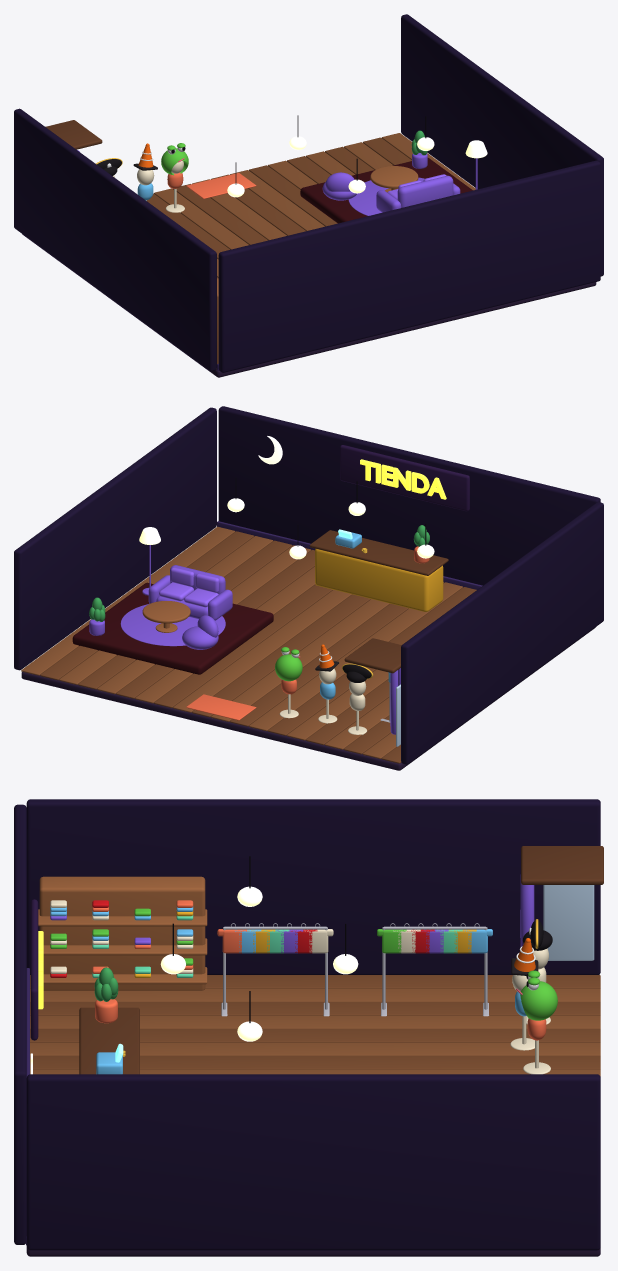
File: room_shop.glb
3 views of the same model, one above another, from view 1: azimuth 30°, elevation 25°; view 2: azimuth 150°, elevation 25°; view 3: azimuth 270°, elevation 25° (orthographic). The views are drawn at different scales.
Visible parts, largest first — view 1: Room, FloorPlanks, Showcase, Loveseat, FittingFrame, DoorMat, CoffeeTable, Pendants, Rug, Beanbag, Costume_Frog, MannequinFrog; view 2: Room, FloorPlanks, Showcase, Counter, SignBoard, Loveseat, CounterTop, Rug, SignText, FittingFrame, CoffeeTable, DoorMat (+6 smaller); view 3: Room, FloorPlanks, ClothesShelf, ShelfBoards, Mirror, FittingFrame, FoldedClothes, CounterTop, RackB_Shirts, RackA_Shirts, Pendants, Costume_Frog (+9 smaller).
Part boxes in pixels (<box>): Room: <box>14,14,603,377</box>; FloorPlanks: <box>147,133,475,369</box>; Showcase: <box>300,158,472,223</box>; Loveseat: <box>376,174,460,212</box>; FittingFrame: <box>45,120,102,149</box>; DoorMat: <box>186,173,256,198</box>; CoffeeTable: <box>370,166,418,192</box>; Pendants: <box>227,136,434,197</box>; Rug: <box>348,177,424,215</box>; Beanbag: <box>322,172,356,200</box>; Costume_Frog: <box>161,143,188,175</box>; MannequinFrog: <box>165,161,184,212</box>; Room: <box>14,406,603,770</box>; FloorPlanks: <box>21,526,476,763</box>; Showcase: <box>72,582,273,674</box>; Counter: <box>315,548,443,611</box>; SignBoard: <box>340,445,469,511</box>; Loveseat: <box>148,565,232,620</box>; CounterTop: <box>309,530,448,575</box>; Rug: <box>120,604,225,646</box>; SignText: <box>360,459,446,499</box>; FittingFrame: <box>344,638,401,673</box>; CoffeeTable: <box>142,601,190,632</box>; DoorMat: <box>186,694,256,720</box>; Room: <box>14,799,600,1256</box>; FloorPlanks: <box>30,975,600,1076</box>; ClothesShelf: <box>39,876,205,990</box>; ShelfBoards: <box>38,909,207,984</box>; Mirror: <box>543,885,594,960</box>; FittingFrame: <box>521,846,603,884</box>; FoldedClothes: <box>50,900,193,977</box>; CounterTop: <box>79,1007,139,1074</box>; RackB_Shirts: <box>377,923,492,953</box>; RackA_Shirts: <box>217,923,333,953</box>; Pendants: <box>160,886,358,1041</box>; Costume_Frog: <box>516,970,557,1020</box>.
Size of the model in its own units: 10.4 by 3.45 by 9.25.
